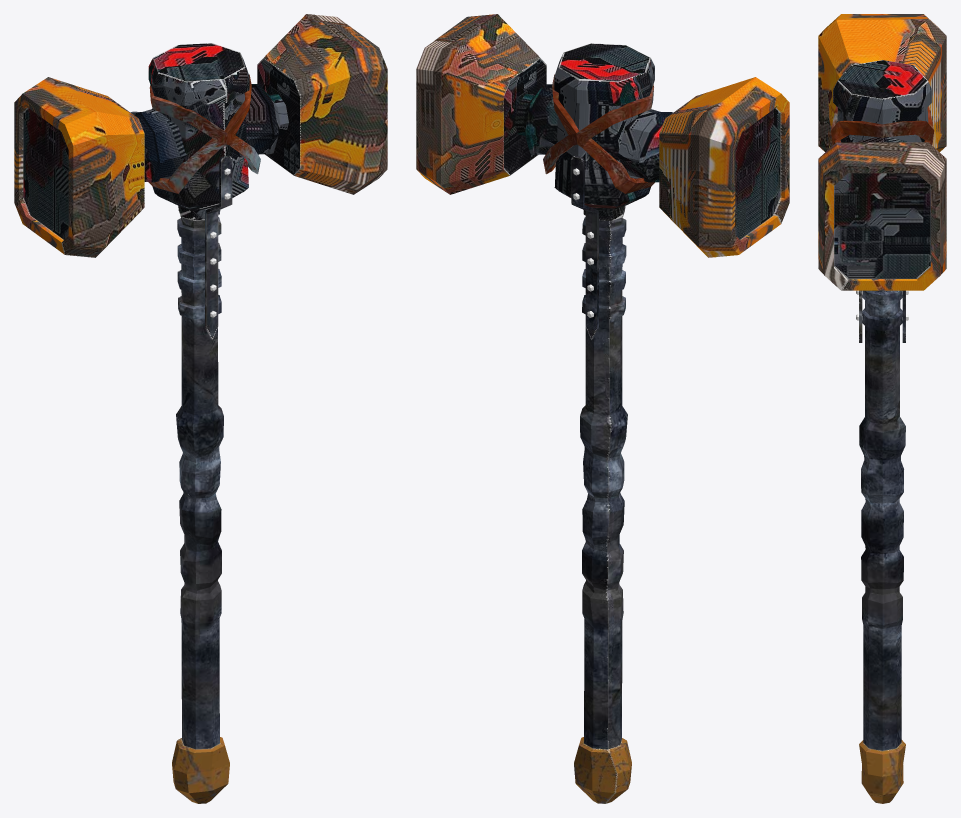
Rendered from Hammer_Double3.fbx.
The picture shows the model from 3 angles, left to right: view 1: azimuth 30°, elevation 25°; view 2: azimuth 150°, elevation 25°; view 3: azimuth 270°, elevation 25°; orthographic projection. The views are drawn at different scales.
Visible parts, largest first — view 1: Hammer_Double; view 2: Hammer_Double; view 3: Hammer_Double.
Part boxes in pixels (box(x1,y1,x2,y2)): Hammer_Double: box(14, 14, 387, 803); Hammer_Double: box(416, 14, 789, 803); Hammer_Double: box(818, 14, 946, 803).
Bounding box in the file's own units: 222 × 497 × 80.57.
1 material, 1 textured.
